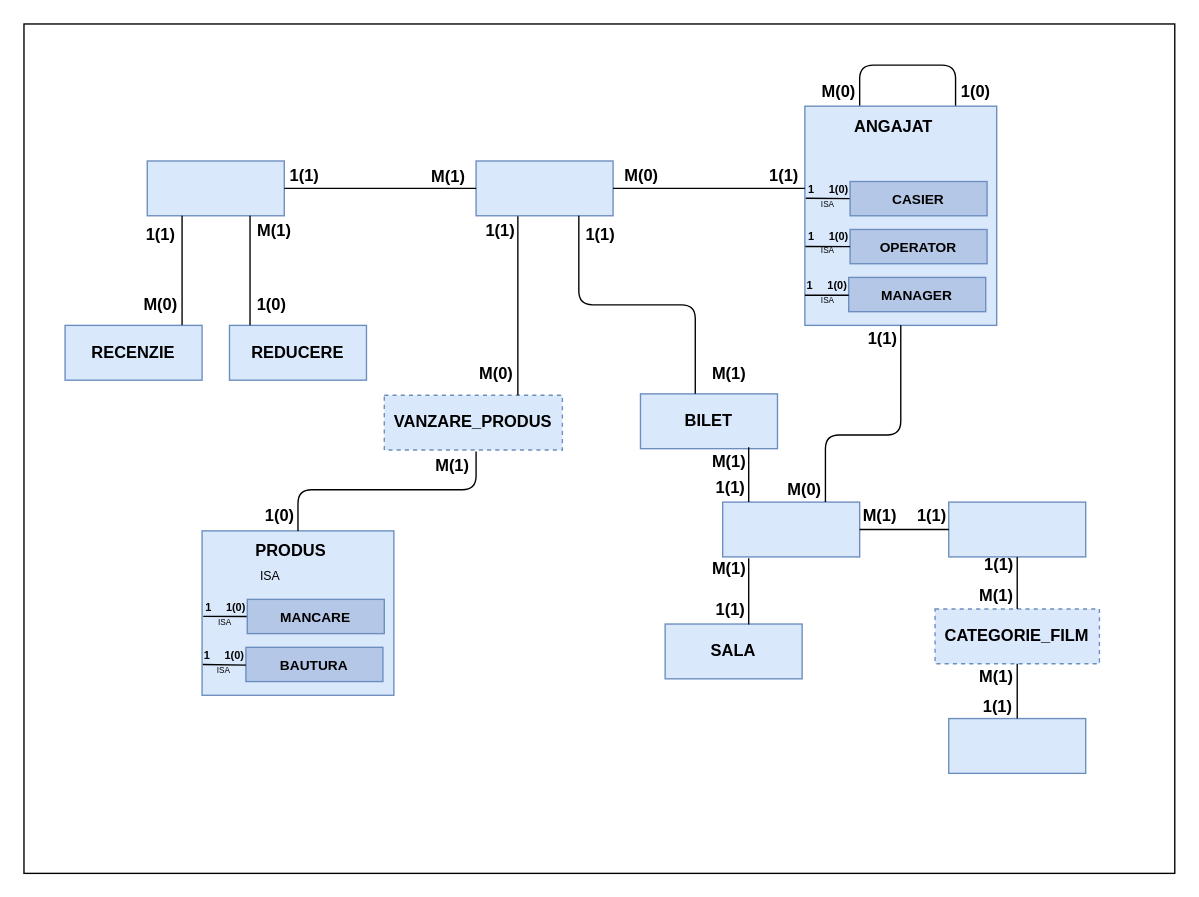
This 1199x897 diagram has some shape labels left out. The box of each missing label's shape, as (x1, y1, x2, y2) in pixels:
CATEGORIE: (947, 717, 1086, 773)
CLIENT: (146, 160, 284, 216)
FILM: (947, 501, 1086, 557)
PROIECTIE: (721, 501, 860, 557)
VANZARE: (475, 160, 613, 216)
